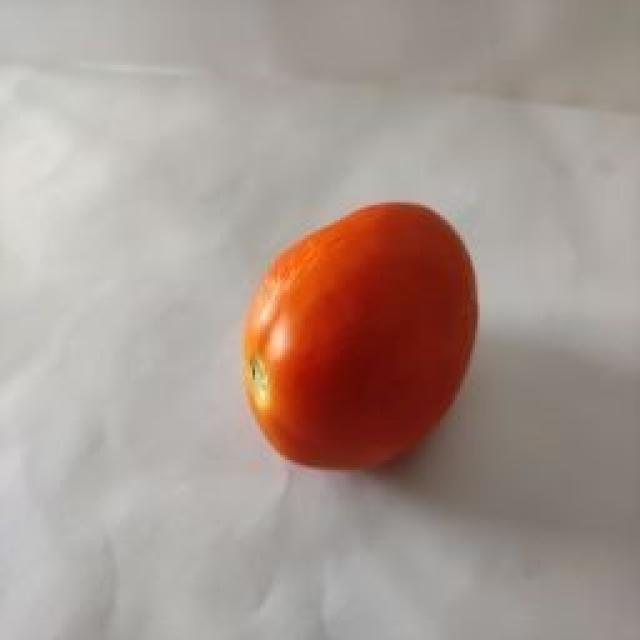Ripe: (240, 202, 480, 473)
